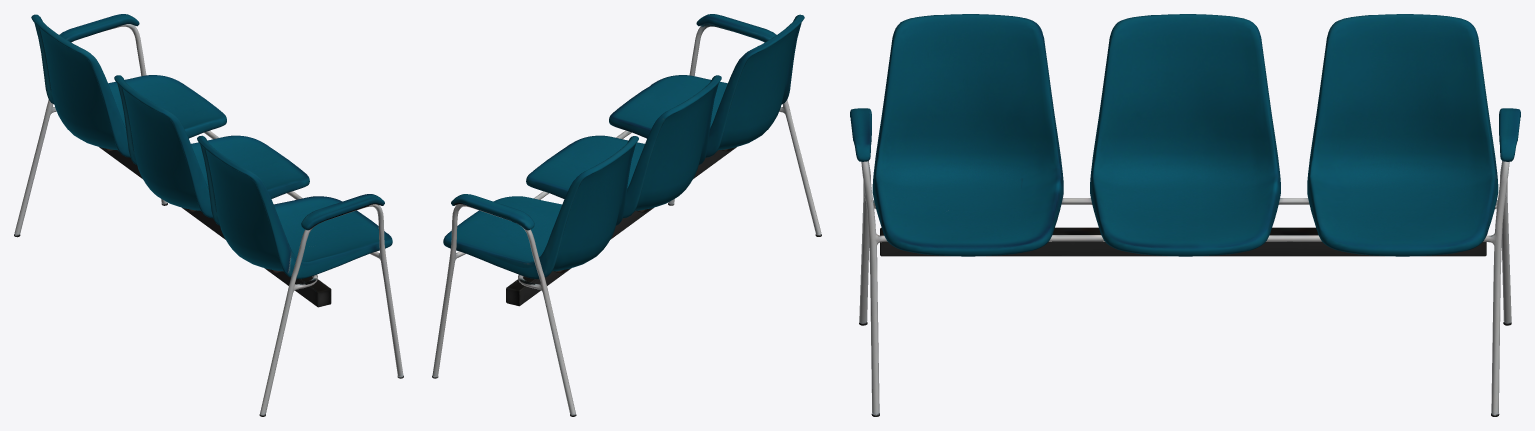
3 views of the same model, side by side, from view 1: azimuth 30°, elevation 25°; view 2: azimuth 150°, elevation 25°; view 3: azimuth 270°, elevation 25° (orthographic). The views are drawn at different scales.
Parts seen in each view (by area): view 1: tripo_node_f56d6499-9f6e-44eb-b5bd-5c4df42b88e5; view 2: tripo_node_f56d6499-9f6e-44eb-b5bd-5c4df42b88e5; view 3: tripo_node_f56d6499-9f6e-44eb-b5bd-5c4df42b88e5.
Part boxes in pixels (box(x1,y1,x2,y2)): tripo_node_f56d6499-9f6e-44eb-b5bd-5c4df42b88e5: box(14, 14, 403, 416); tripo_node_f56d6499-9f6e-44eb-b5bd-5c4df42b88e5: box(432, 14, 821, 416); tripo_node_f56d6499-9f6e-44eb-b5bd-5c4df42b88e5: box(850, 14, 1520, 416).
Size of the model in its own units: 0.354 by 0.5054 by 0.9995.
Materials: 1 (1 with a texture image).
